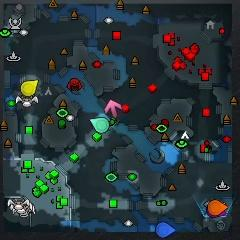p1: (156, 222, 176, 237)
p2: (89, 117, 109, 133)
p3: (206, 208, 226, 218)
p4: (21, 80, 39, 97)
p5: (208, 200, 228, 216)
x1: (105, 100, 122, 118)
